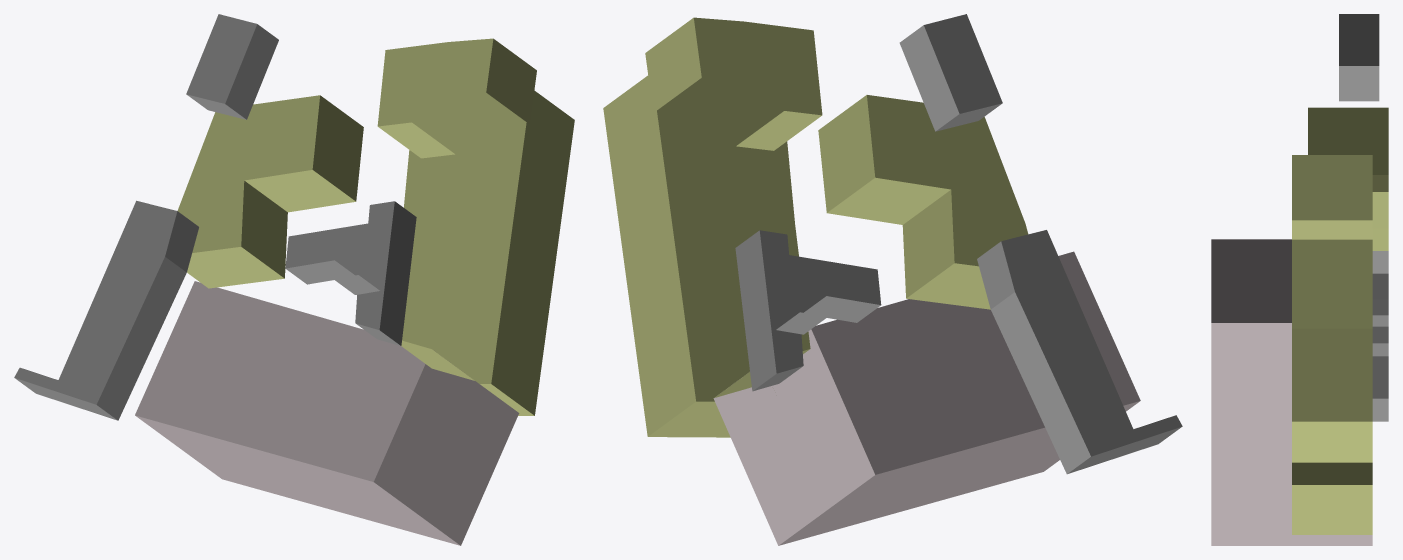
3 views of the same model, side by side, from view 1: azimuth 30°, elevation 25°; view 2: azimuth 150°, elevation 25°; view 3: azimuth 270°, elevation 25° (orthographic). The views are drawn at different scales.
Parts seen in each view (by area): view 1: 0_1_0_0_2_2_1_3_1; view 2: 0_1_0_0_2_2_1_3_1; view 3: 0_1_0_0_2_2_1_3_1.
Boxes of the visible parts, left/top/right/bottom form: 0_1_0_0_2_2_1_3_1: left=14, top=14, right=574, bottom=545; 0_1_0_0_2_2_1_3_1: left=603, top=14, right=1182, bottom=545; 0_1_0_0_2_2_1_3_1: left=1211, top=14, right=1388, bottom=545.
Size of the model in its own units: 40.35 by 38.1 by 13.2.
